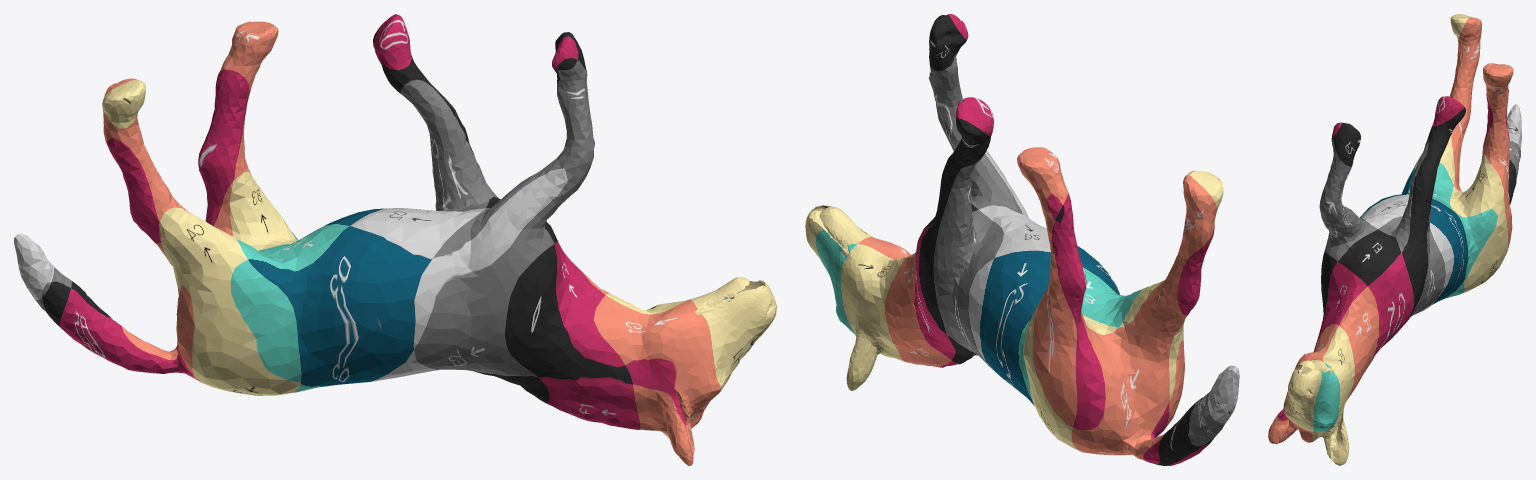
The model's file is fox_02-horse_01.obj.
3 views of the same model, side by side, from view 1: azimuth 30°, elevation 25°; view 2: azimuth 150°, elevation 25°; view 3: azimuth 270°, elevation 25° (orthographic). The views are drawn at different scales.
Parts seen in each view (by area): view 1: fox_02-horse_01_export; view 2: fox_02-horse_01_export; view 3: fox_02-horse_01_export.
Boxes of the visible parts, left/top/right/bottom form: fox_02-horse_01_export: left=14, top=14, right=776, bottom=465; fox_02-horse_01_export: left=805, top=14, right=1239, bottom=465; fox_02-horse_01_export: left=1268, top=14, right=1521, bottom=465.
Bounding box in the file's own units: 1.09 × 0.7289 × 0.5466.
